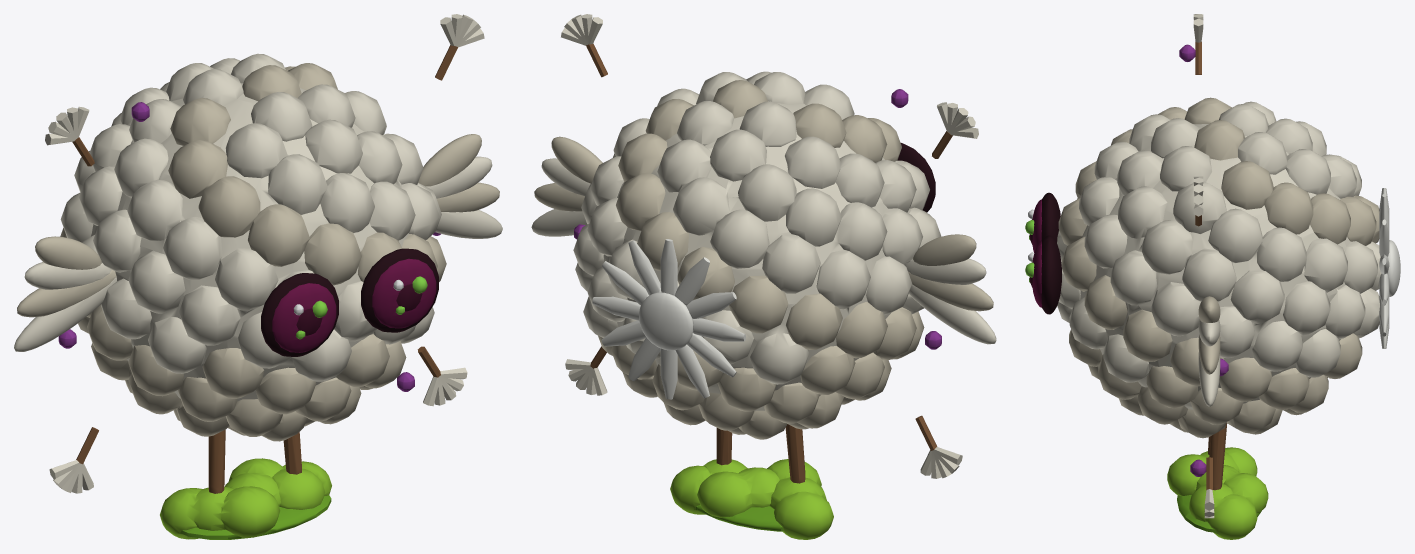
File: seedrift.glb
3 renders of one model, left to right at view 1: azimuth 30°, elevation 25°; view 2: azimuth 150°, elevation 25°; view 3: azimuth 270°, elevation 25°, orthographic. The views are drawn at different scales.
Parts seen in each view (by area): view 1: creature; view 2: creature; view 3: creature.
Boxes of the visible parts, x1,y1,x2,y2 form: creature: (14, 14, 502, 539); creature: (531, 14, 996, 539); creature: (1025, 14, 1400, 539).
Bounding box in the file's own units: 1.08 × 1 × 0.8195.
